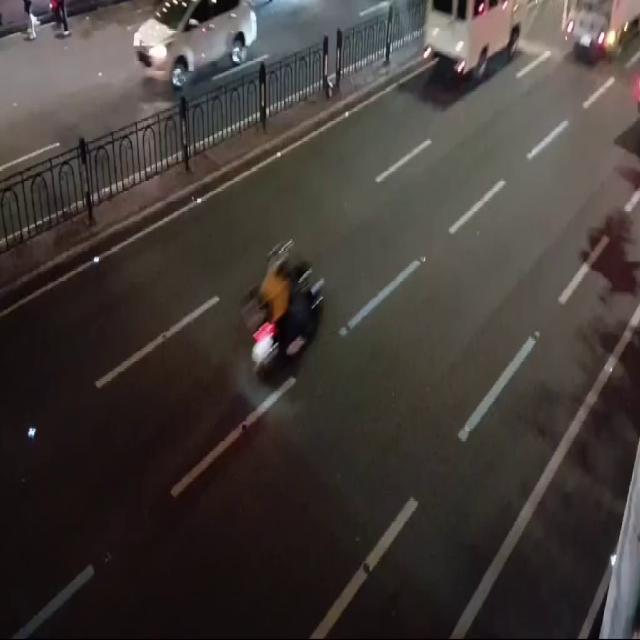car: (121, 0, 267, 96)
motorcycle: (234, 209, 336, 413)
